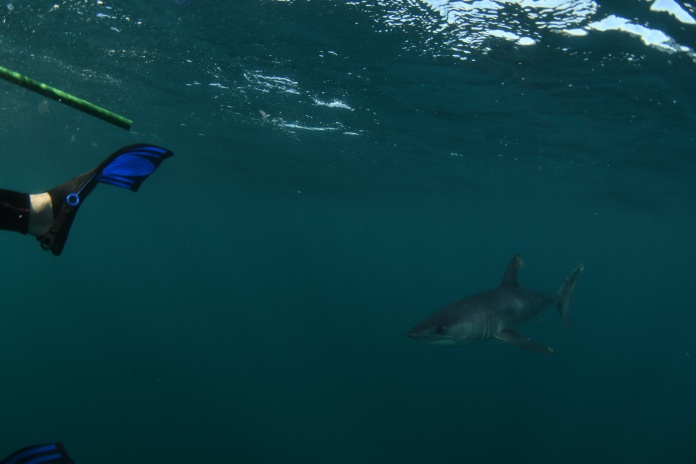Mako: (390, 244, 604, 367)
